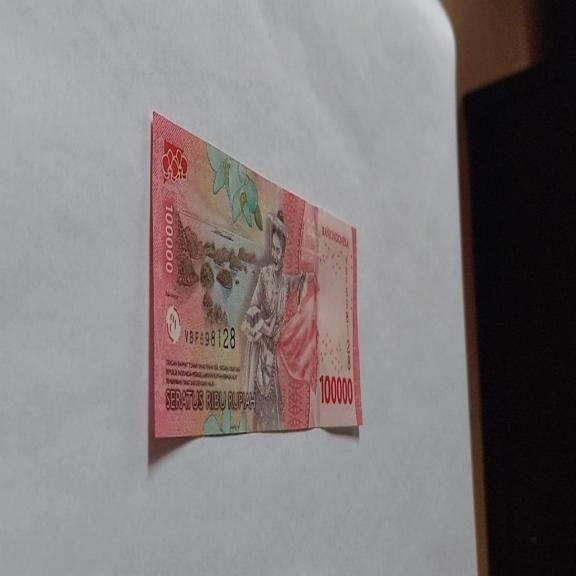Kertas: (149, 109, 363, 446), (183, 325, 236, 350)
